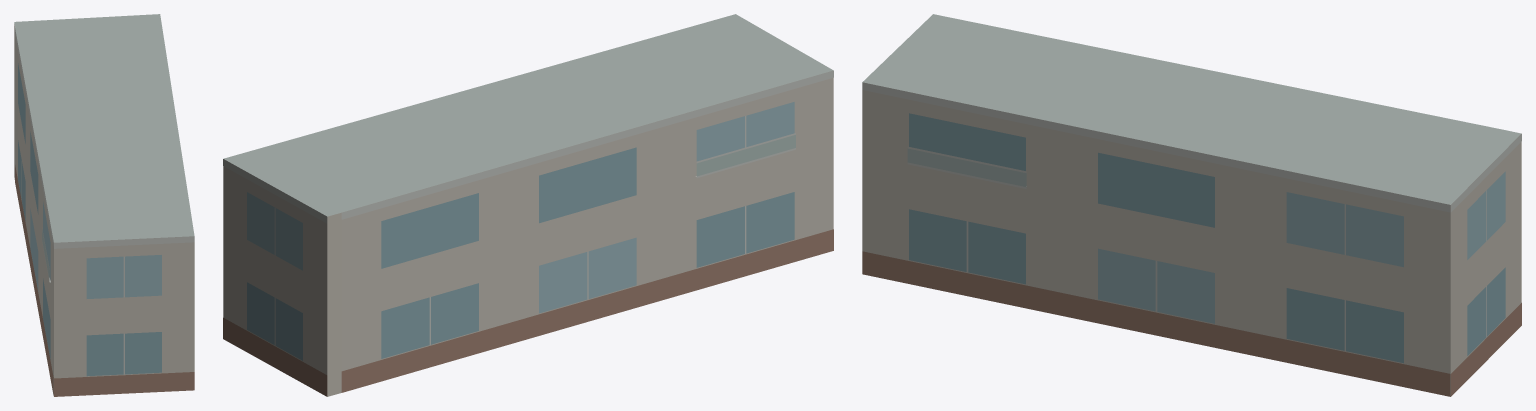
The model's file is survey-upis-32537138.glb.
The picture shows the model from 3 angles, left to right: view 1: azimuth 30°, elevation 25°; view 2: azimuth 150°, elevation 25°; view 3: azimuth 270°, elevation 25°; orthographic projection. The views are drawn at different scales.
Parts seen in each view (by area): view 1: survey-upis-32537138.tmp; view 2: survey-upis-32537138.tmp; view 3: survey-upis-32537138.tmp.
Part boxes in pixels (bbox=[...]): survey-upis-32537138.tmp: bbox=[14, 14, 194, 396]; survey-upis-32537138.tmp: bbox=[223, 14, 833, 396]; survey-upis-32537138.tmp: bbox=[862, 14, 1521, 396].
Size of the model in its own units: 13.02 by 6.1 by 19.
